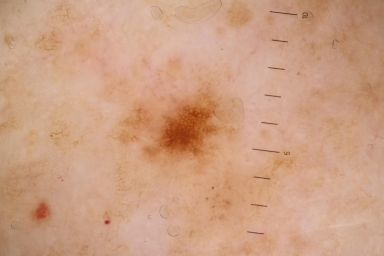nevus: (161, 106, 213, 155)
